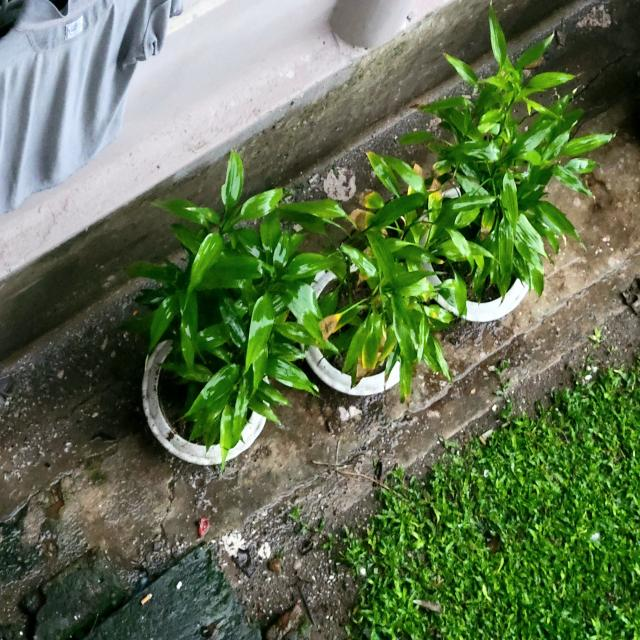Breeding Place: (220, 281, 640, 640), (0, 273, 376, 640), (419, 8, 601, 368), (136, 146, 304, 498), (267, 109, 443, 445)
